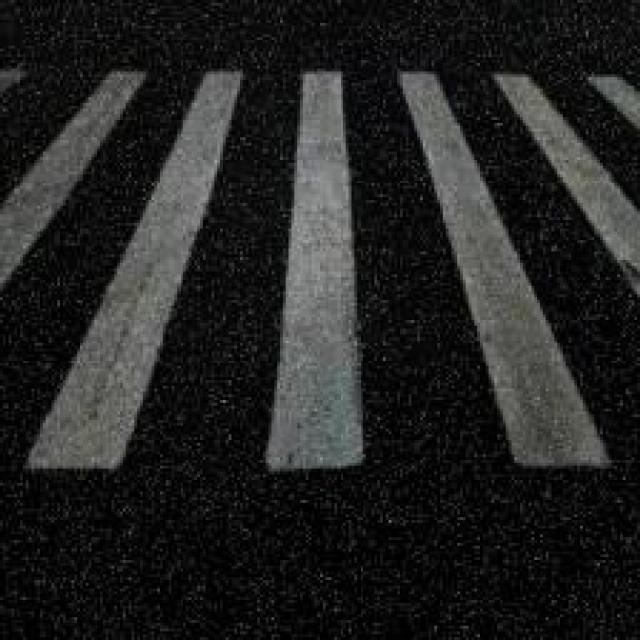crosswalk: (0, 61, 638, 479)
